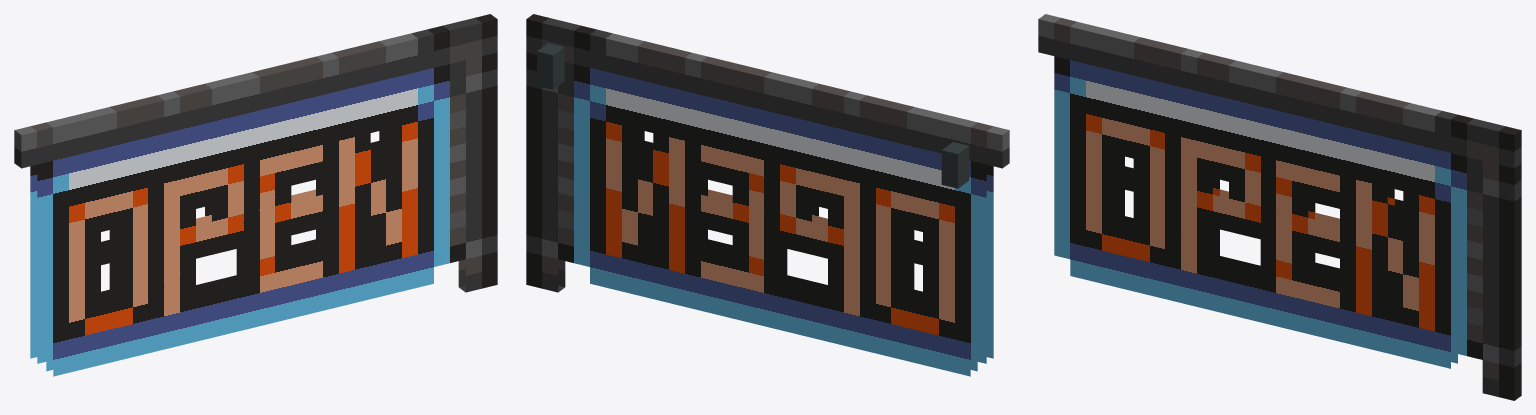
File: CMU3DPrintedRMCOverheadSignNeonOpen2.glb
3 views of the same model, side by side, from view 1: azimuth 30°, elevation 25°; view 2: azimuth 150°, elevation 25°; view 3: azimuth 330°, elevation 25° (orthographic).
Visible parts, largest first — view 1: lit source lettering and outline; view 2: lit source lettering and outline, small wall standoff (×2); view 3: lit source lettering and outline.
Boxes of the visible parts, x1,y1,x2,y2 form: lit source lettering and outline: (14,14,497,376); lit source lettering and outline: (526,14,1009,376); small wall standoff (×2): (537,43,969,188); lit source lettering and outline: (1038,14,1521,400).
Size of the model in its own units: 0.9375 by 0.5 by 0.063.
Materials: 2 (1 with a texture image).
